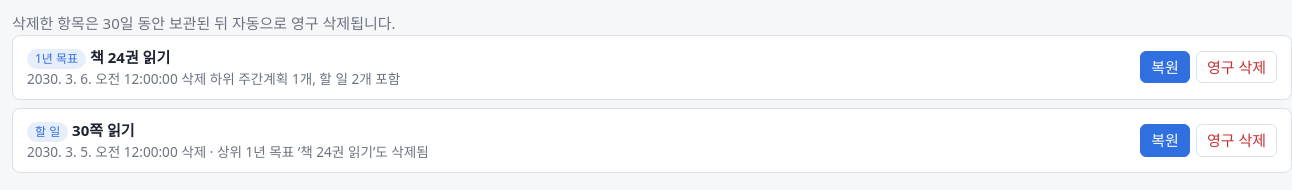
Scenario: TrashView › restores an item and reloads the list
The image size is (1292, 190).
Click the 1st button "복원".
click(1165, 67)  # box [1140,51,1190,83]
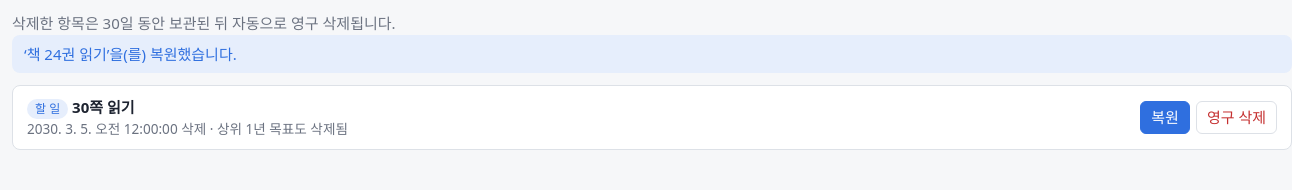
Expected: the message shows "복원했습니다", [24,44,237,64]
Expected: the list item with test id "trash-g1" is gone
